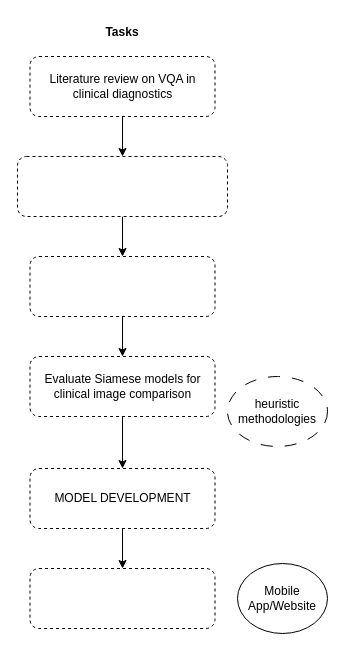
Image size: 345x651. Some labels were removed from this diagram. The centre of each missing label's shape, as x and y in pixels:
"Focused study of Ulcerative Colitis diagnostics" goes at (122,286).
"Study current RAG + VQA models Check paper + code" goes at (122,186).
"TEST AND DOCUMENT ON REAL DATASET (Big Data)" goes at (122,598).
